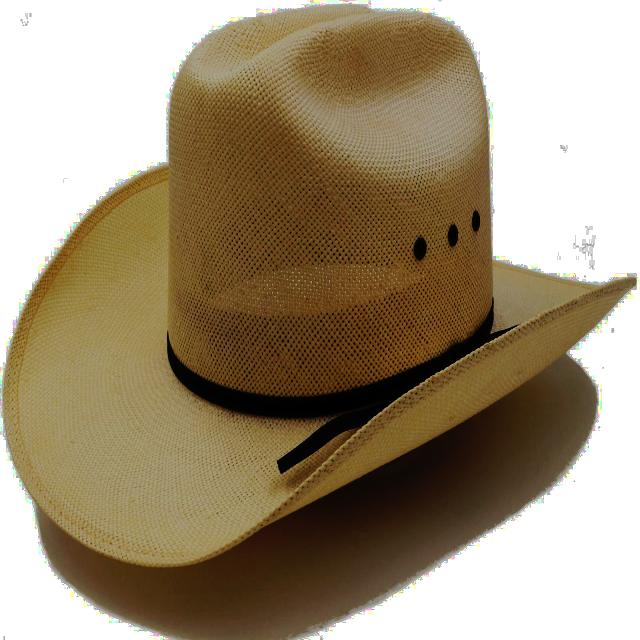TOPI: (1, 0, 640, 582)
